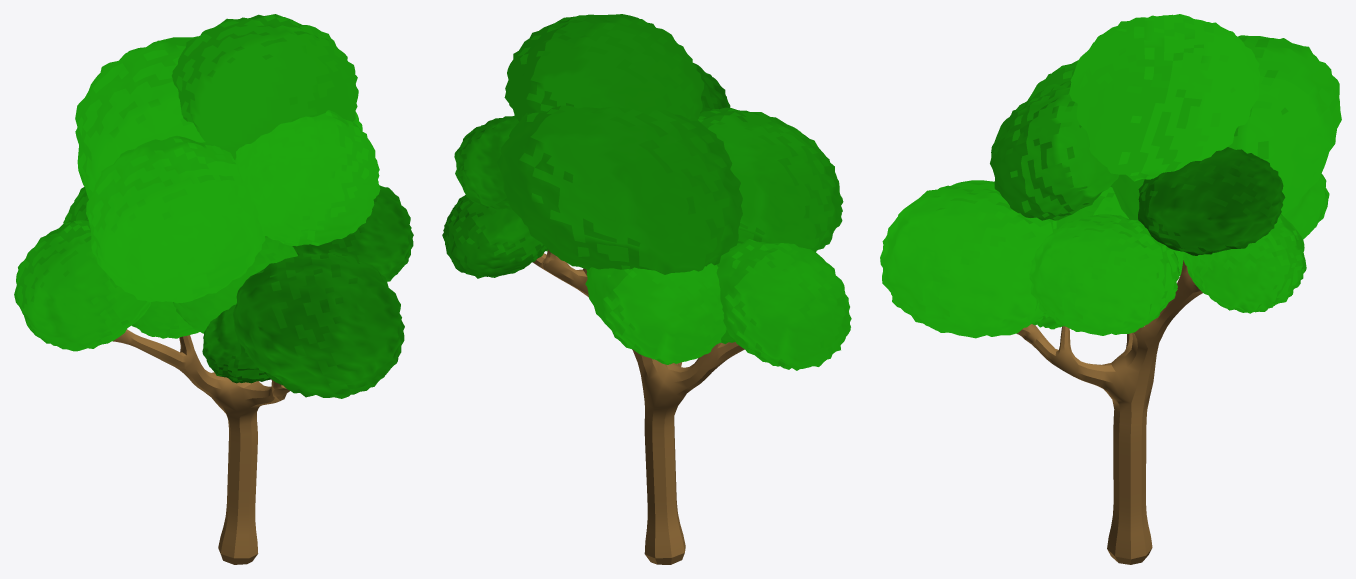
File: tree3.fbx
3 views of the same model, side by side, from view 1: azimuth 30°, elevation 25°; view 2: azimuth 150°, elevation 25°; view 3: azimuth 270°, elevation 25° (orthographic). The views are drawn at different scales.
Visible parts, largest first — view 1: Cube.002, Plane.001; view 2: Cube.002, Plane.001; view 3: Cube.002, Plane.001.
Part boxes in pixels (<box>): Cube.002: <box>14,14,413,398</box>; Plane.001: <box>113,329,289,564</box>; Cube.002: <box>442,14,851,370</box>; Plane.001: <box>533,249,744,564</box>; Cube.002: <box>880,14,1341,338</box>; Plane.001: <box>1016,260,1202,564</box>.
Size of the model in its own units: 1110 by 1559 by 1179.
